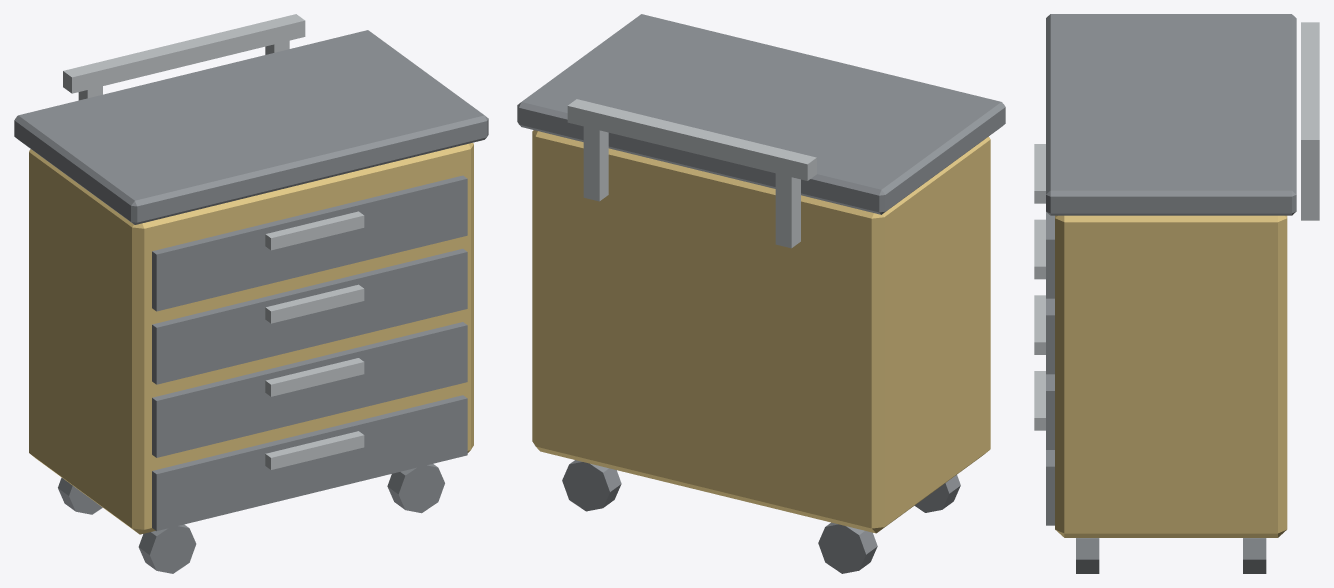
The model's file is P_tool_cart.fbx.
3 views of the same model, side by side, from view 1: azimuth 30°, elevation 25°; view 2: azimuth 150°, elevation 25°; view 3: azimuth 270°, elevation 25° (orthographic). The views are drawn at different scales.
Parts seen in each view (by area): view 1: P_tool_cart; view 2: P_tool_cart; view 3: P_tool_cart.
Boxes of the visible parts, x1,y1,x2,y2 form: P_tool_cart: (14,14,488,573); P_tool_cart: (517,14,1005,573); P_tool_cart: (1034,14,1319,573).
Bounding box in the file's own units: 0.92 × 1.02 × 0.615.
